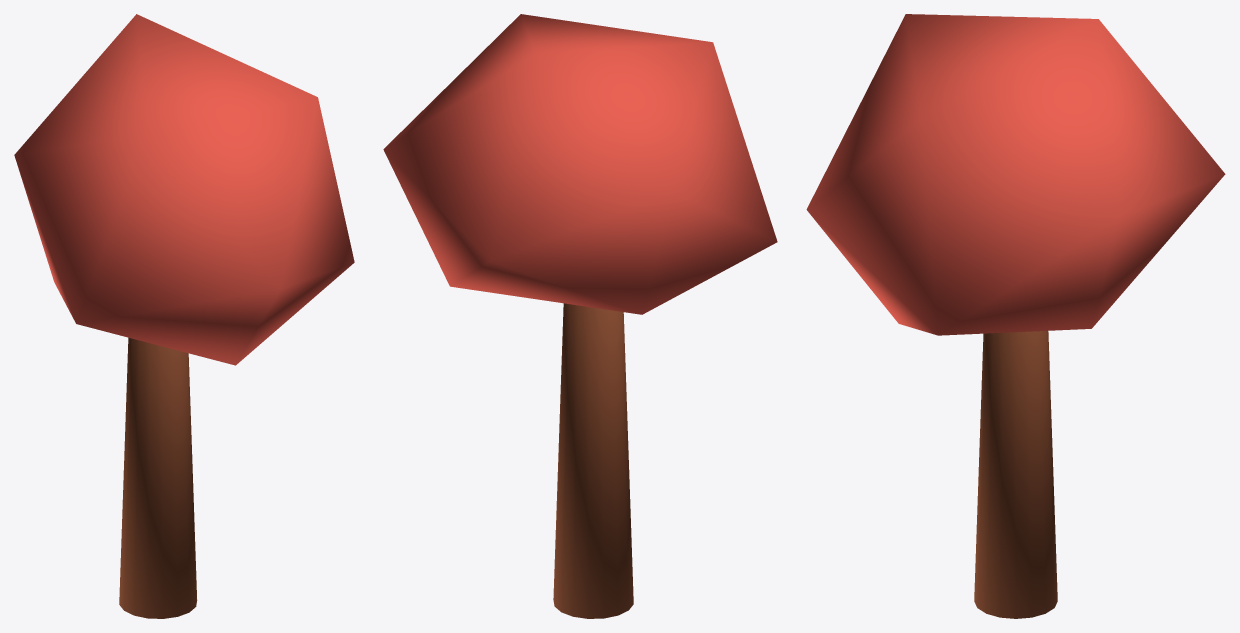
Rendered from SM_Tree2.fbx.
3 views of the same model, side by side, from view 1: azimuth 30°, elevation 25°; view 2: azimuth 150°, elevation 25°; view 3: azimuth 270°, elevation 25° (orthographic). The views are drawn at different scales.
Visible parts, largest first — view 1: SM_Tree_2; view 2: SM_Tree_2; view 3: SM_Tree_2.
Part boxes in pixels (x1,y1,x2,y2): SM_Tree_2: [14, 14, 354, 618]; SM_Tree_2: [383, 14, 777, 618]; SM_Tree_2: [806, 14, 1225, 618].
Size of the model in its own units: 605 by 1106 by 711.
